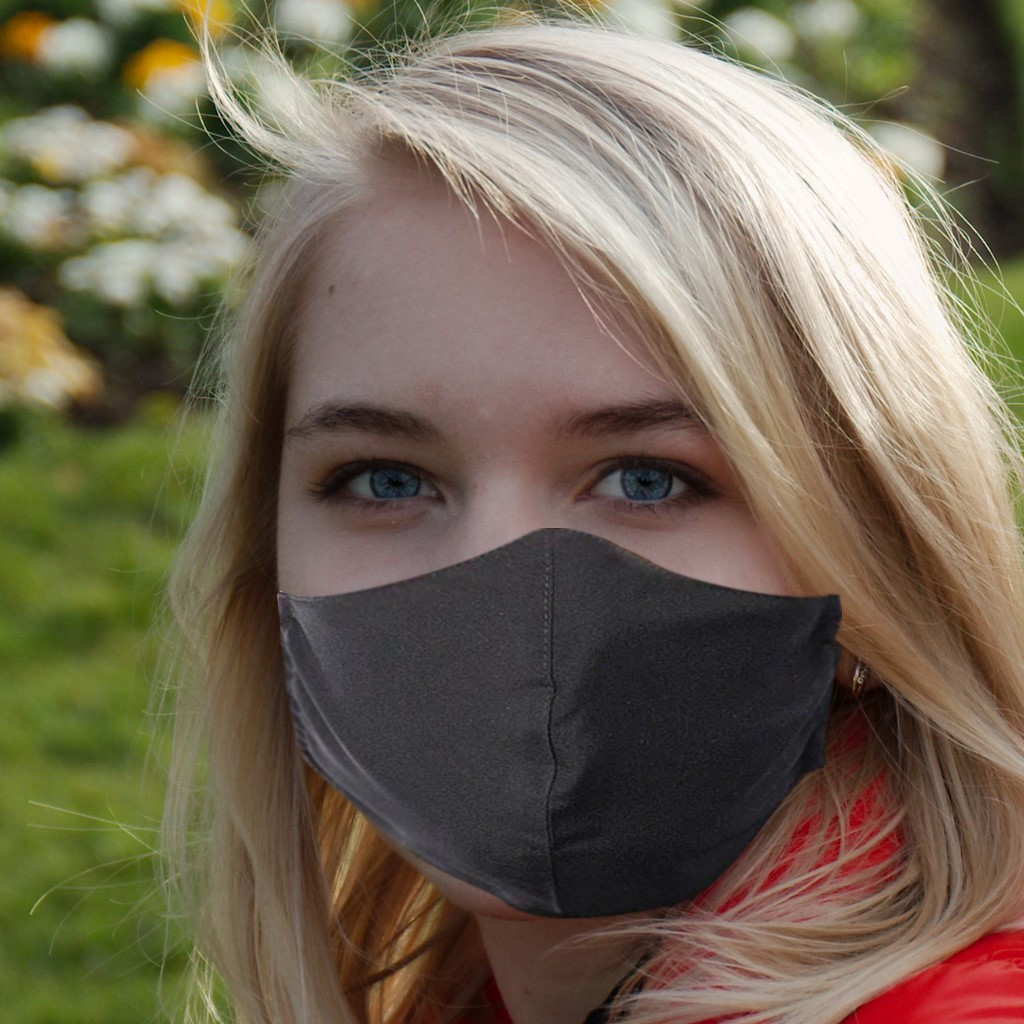con_mascara: (231, 71, 908, 922)
